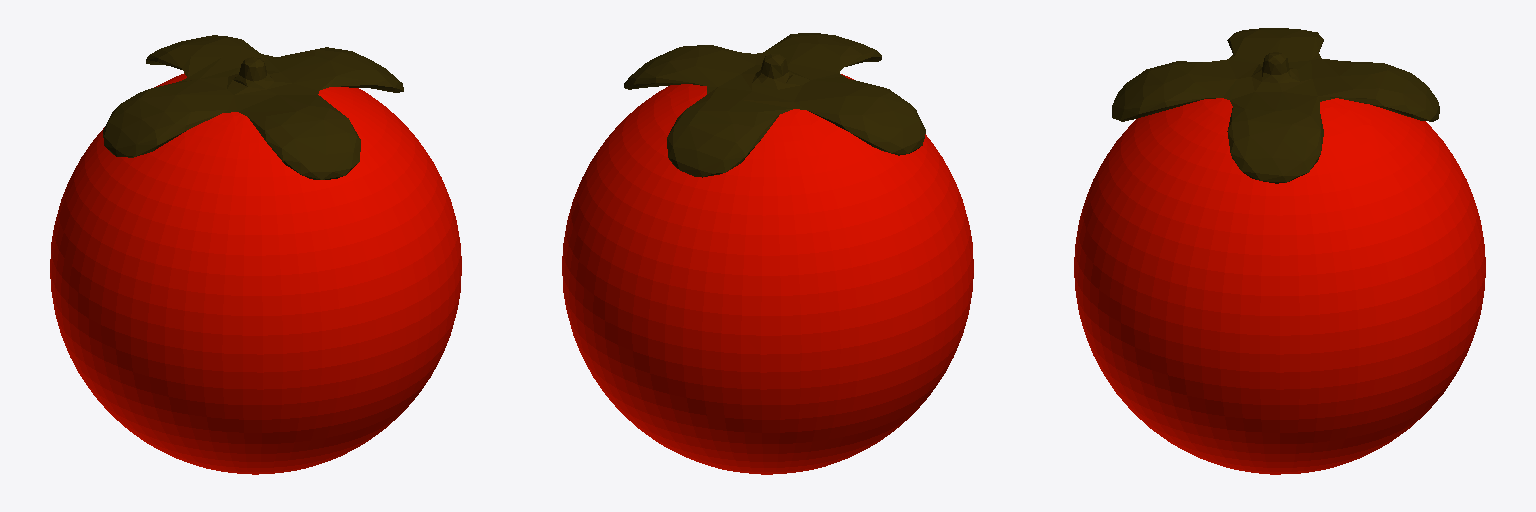
The model's file is Persimon 1.obj.
3 renders of one model, left to right at view 1: azimuth 30°, elevation 25°; view 2: azimuth 150°, elevation 25°; view 3: azimuth 270°, elevation 25°, orthographic.
Parts seen in each view (by area): view 1: 球, 立方体; view 2: 球, 立方体; view 3: 球, 立方体.
Boxes of the visible parts, x1,y1,x2,y2 form: 球: [50, 73, 461, 474]; 立方体: [103, 35, 403, 179]; 球: [562, 74, 973, 474]; 立方体: [624, 33, 925, 177]; 球: [1074, 98, 1485, 474]; 立方体: [1112, 28, 1439, 183].
Bounding box in the file's own units: 0.8053 × 0.8614 × 0.8053.